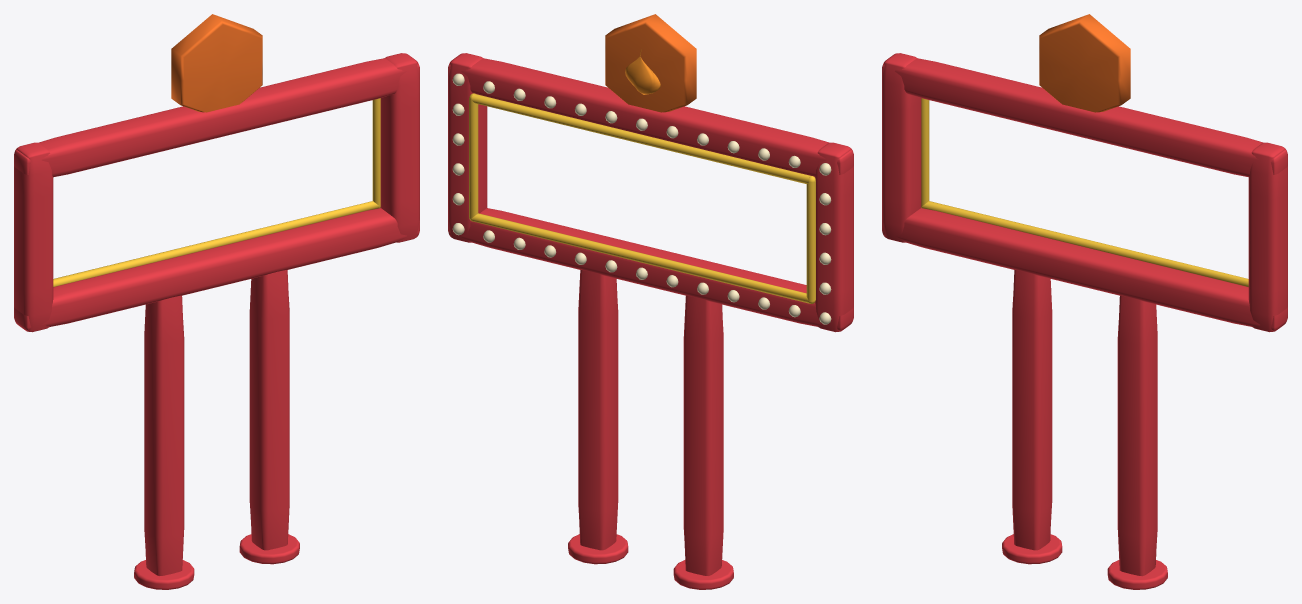
File: CallMarquee.obj
3 renders of one model, left to right at view 1: azimuth 30°, elevation 25°; view 2: azimuth 150°, elevation 25°; view 3: azimuth 330°, elevation 25°, orthographic.
Parts seen in each view (by area): view 1: Frame, Badge, Trim; view 2: Frame, Trim, Badge, Bulbs, Flame; view 3: Frame, Badge, Trim.
Part boxes in pixels (x1,y1,x2,y2): Frame: (14,53,419,589); Badge: (171,14,262,112); Trim: (53,98,380,286); Frame: (448,53,853,589); Trim: (469,93,815,303); Badge: (605,14,696,112); Bulbs: (452,73,831,324); Flame: (625,49,660,94); Frame: (882,53,1287,589); Badge: (1039,14,1130,112); Trim: (921,98,1248,286).
Bounding box in the file's own units: 30 × 39.7 × 4.
